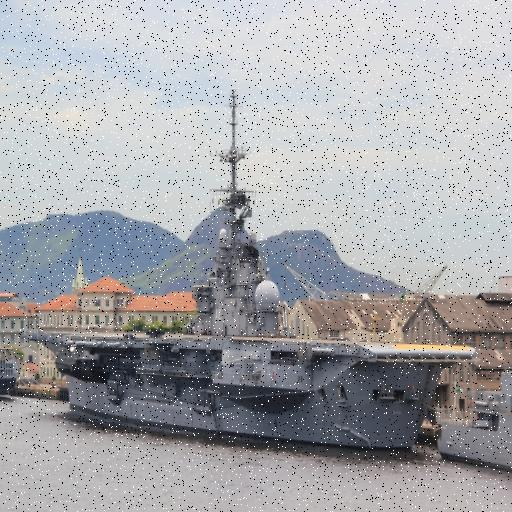Portanaves: (23, 83, 483, 454)
